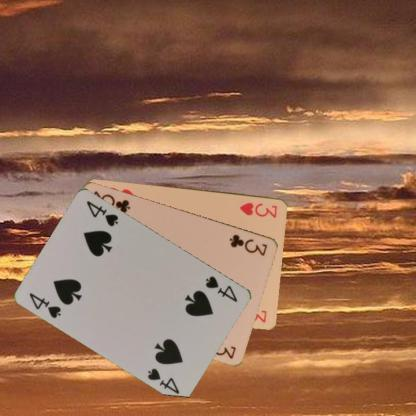3c: (226, 231, 269, 257)
3h: (238, 199, 278, 219)
4s: (202, 272, 240, 304), (27, 290, 63, 320)
